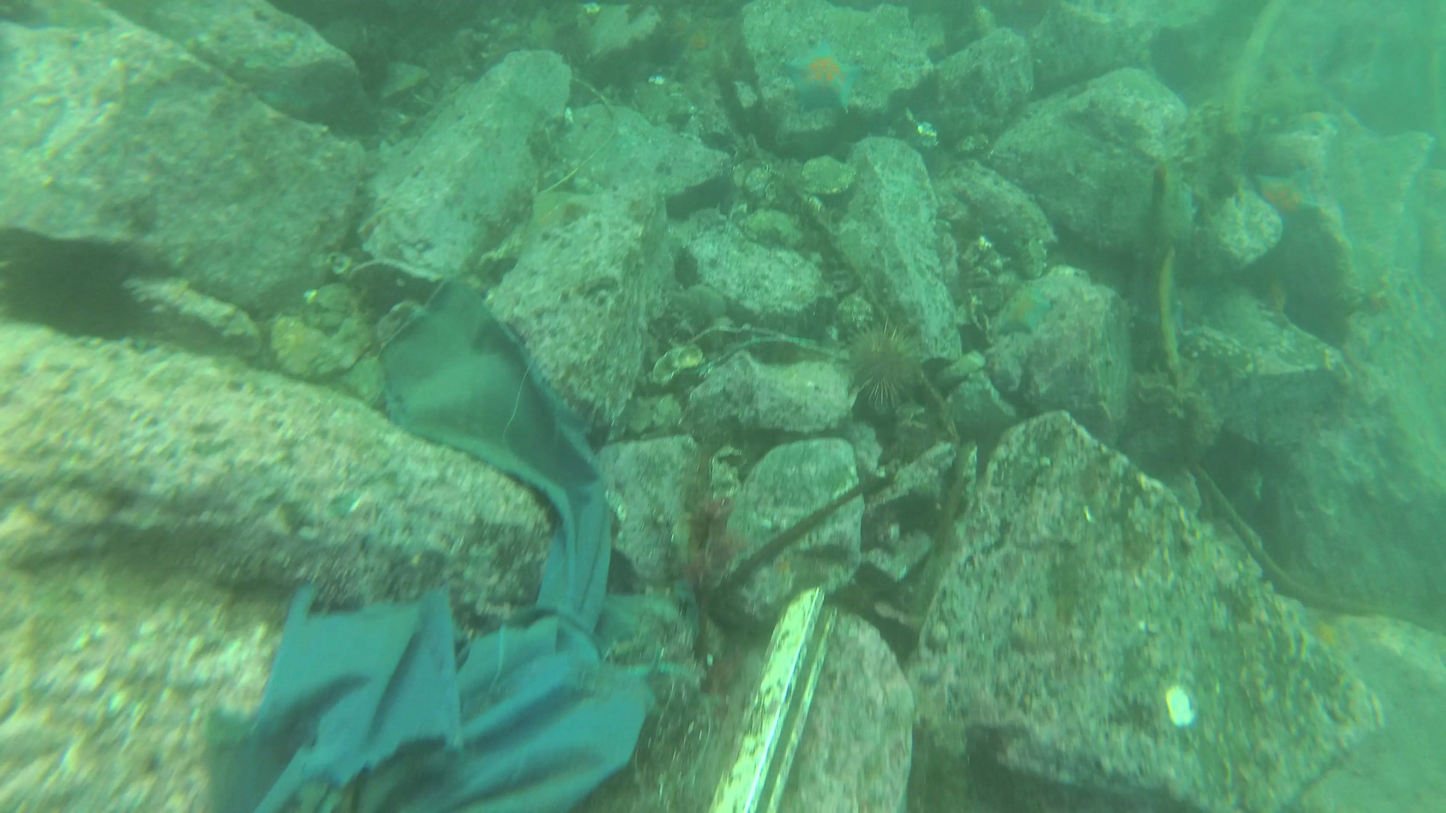holothurian: (784, 40, 877, 117), (1257, 162, 1325, 242), (1002, 281, 1054, 335)
starfish: (838, 331, 930, 408)
